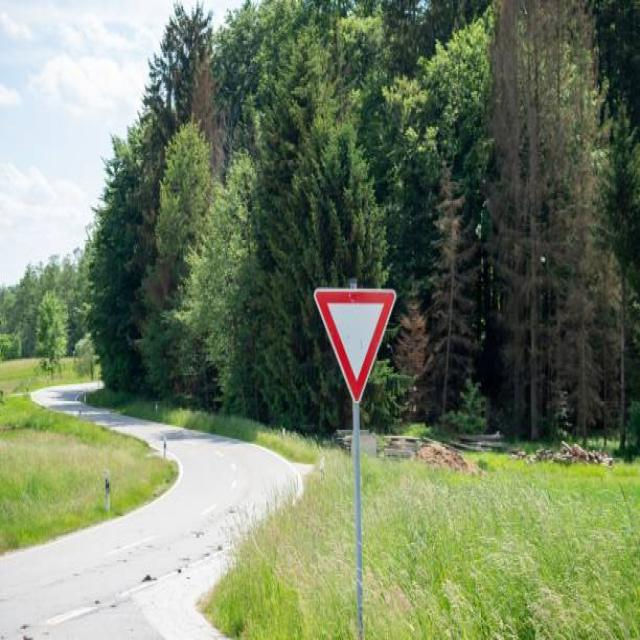give_way: (314, 273, 399, 404)
